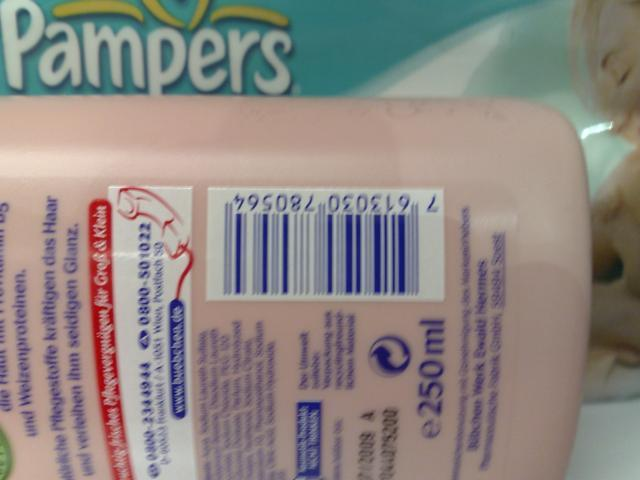Barcode: (205, 185, 446, 300)
